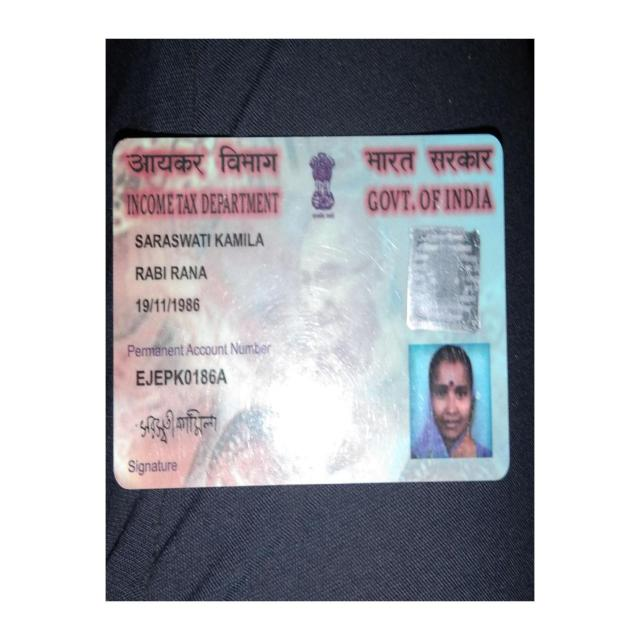pan_card: (115, 137, 503, 486)
